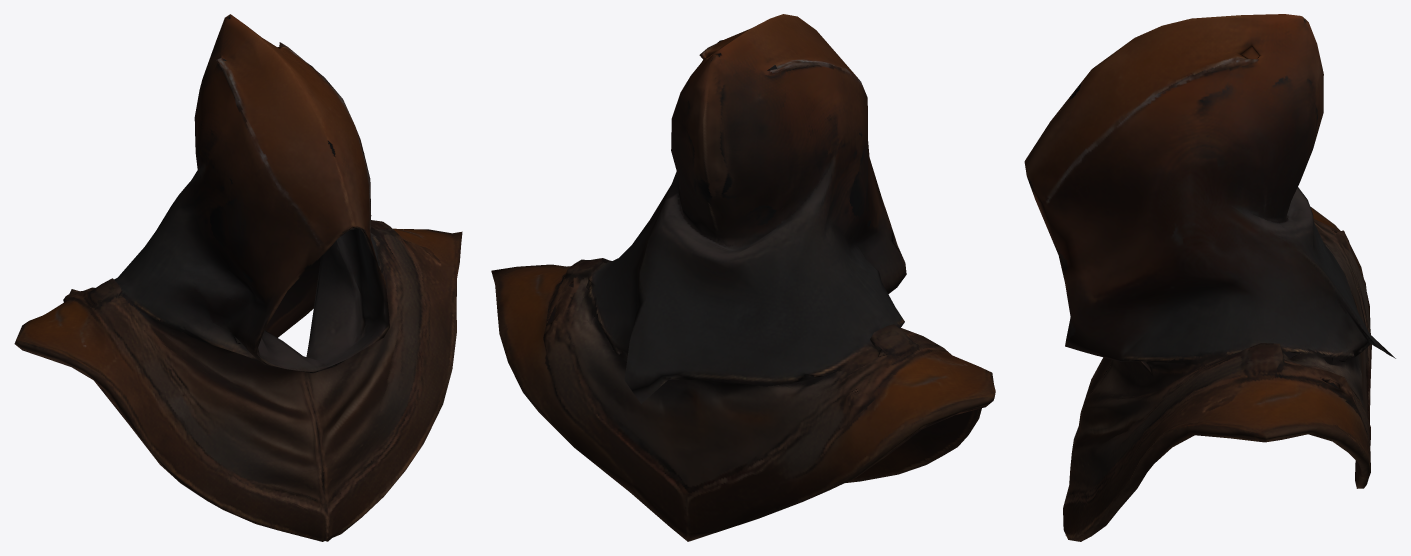
File: cowl.glb
The picture shows the model from 3 angles, left to right: view 1: azimuth 30°, elevation 25°; view 2: azimuth 150°, elevation 25°; view 3: azimuth 270°, elevation 25°; orthographic projection. The views are drawn at different scales.
Parts seen in each view (by area): view 1: geometry_0; view 2: geometry_0; view 3: geometry_0.
Boxes of the visible parts, box(x1,y1,x2,y2) form: geometry_0: box(14, 14, 462, 541); geometry_0: box(491, 14, 995, 541); geometry_0: box(1024, 14, 1395, 541).
Size of the model in its own units: 0.9944 by 0.9667 by 0.6217.
1 material, 1 textured.
